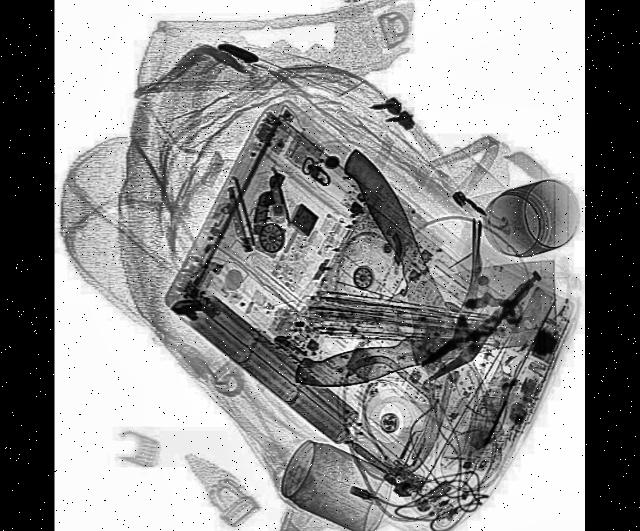Knife: (336, 138, 508, 456), (289, 256, 562, 398)
